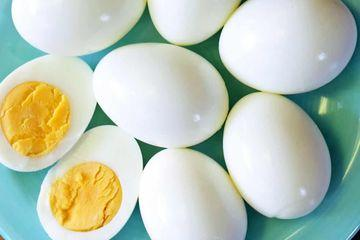telur: (241, 8, 335, 77), (112, 65, 207, 123), (2, 74, 71, 153), (242, 110, 305, 196), (148, 165, 216, 232), (81, 141, 125, 230), (36, 3, 110, 42), (161, 1, 209, 34)
